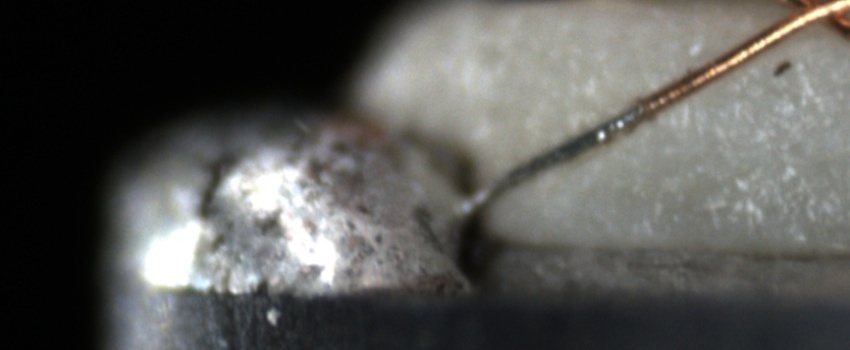CL: (765, 0, 848, 40)
TS: (473, 102, 644, 209)
TTCW: (446, 68, 677, 219)
